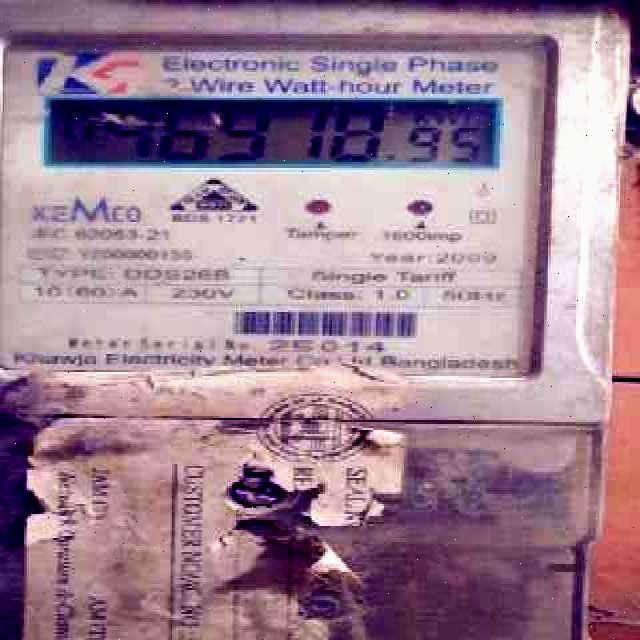LCD: (31, 88, 514, 174)
